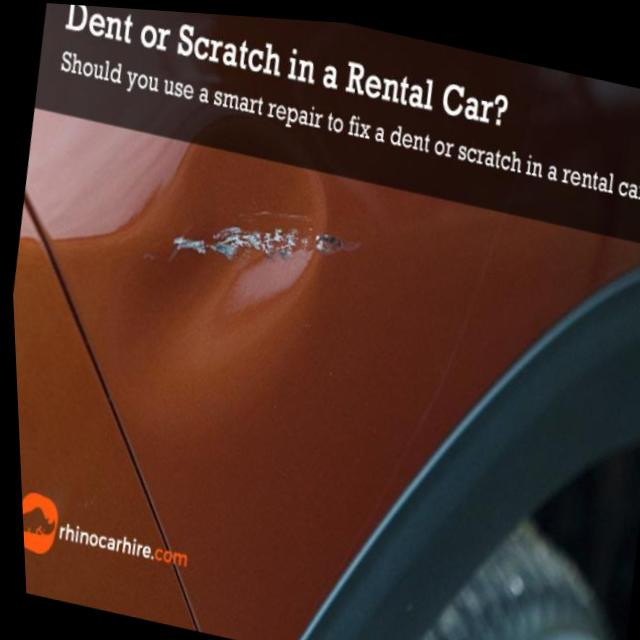Dent: (117, 161, 391, 381)
